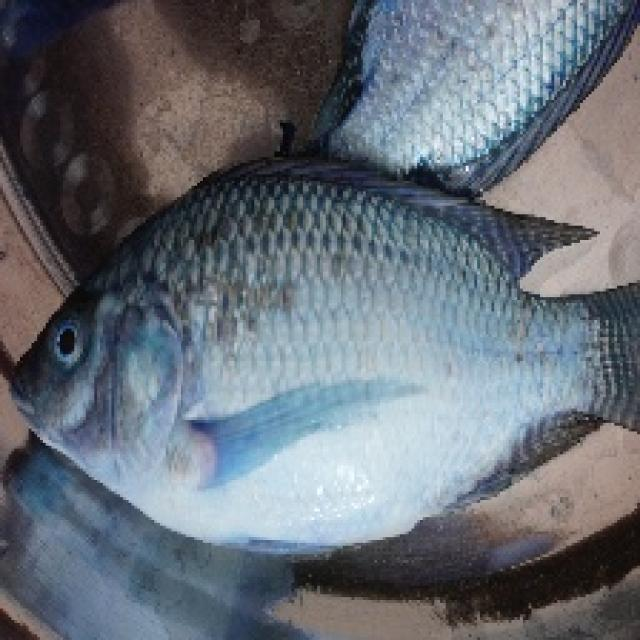Fresh: (21, 194, 555, 545)
